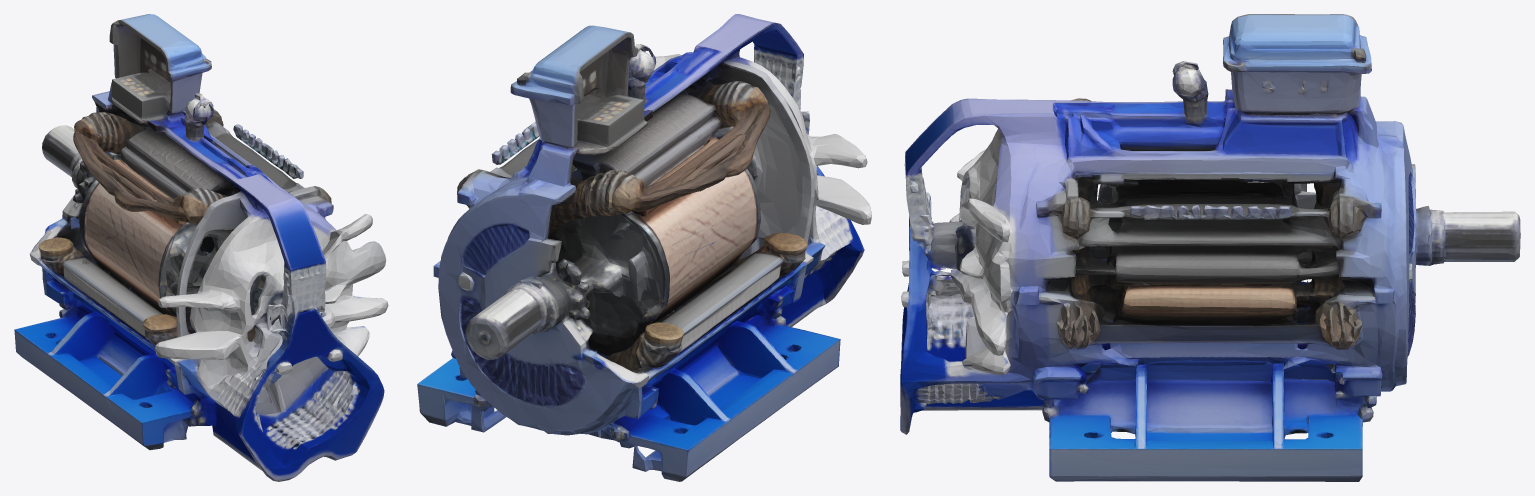
File: motorassincono.glb
3 renders of one model, left to right at view 1: azimuth 30°, elevation 25°; view 2: azimuth 150°, elevation 25°; view 3: azimuth 270°, elevation 25°, orthographic. The views are drawn at different scales.
Visible parts, largest first — view 1: world; view 2: world; view 3: world.
Boxes of the visible parts, bbox=[...] form: world: bbox=[14, 14, 388, 481]; world: bbox=[417, 14, 871, 481]; world: bbox=[900, 14, 1520, 481].
Size of the model in its own units: 0.5357 by 0.7136 by 1.
Materials: 1 (1 with a texture image).
